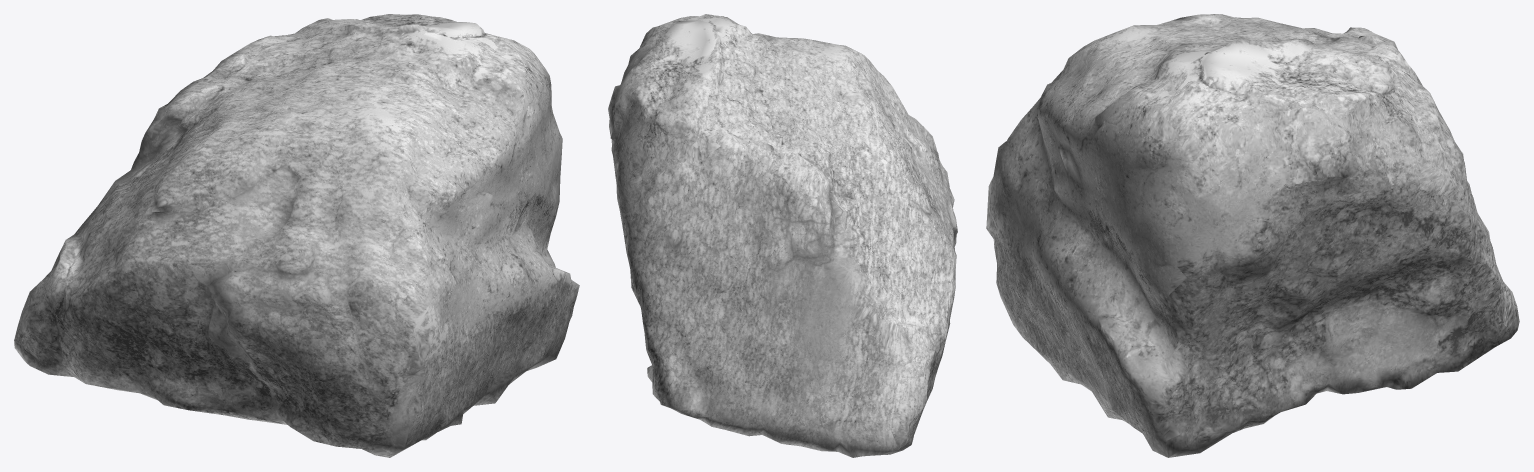
File: namaqualand_boulder_04.glb
3 renders of one model, left to right at view 1: azimuth 30°, elevation 25°; view 2: azimuth 150°, elevation 25°; view 3: azimuth 270°, elevation 25°, orthographic. The views are drawn at different scales.
Visible parts, largest first — view 1: namaqualand_boulder_04; view 2: namaqualand_boulder_04; view 3: namaqualand_boulder_04.
Boxes of the visible parts, x1,y1,x2,y2 form: namaqualand_boulder_04: [14, 14, 579, 457]; namaqualand_boulder_04: [608, 14, 957, 457]; namaqualand_boulder_04: [986, 14, 1519, 457].
Size of the model in its own units: 2.52 by 1.9 by 2.5.
Materials: 1 (1 with a texture image).
